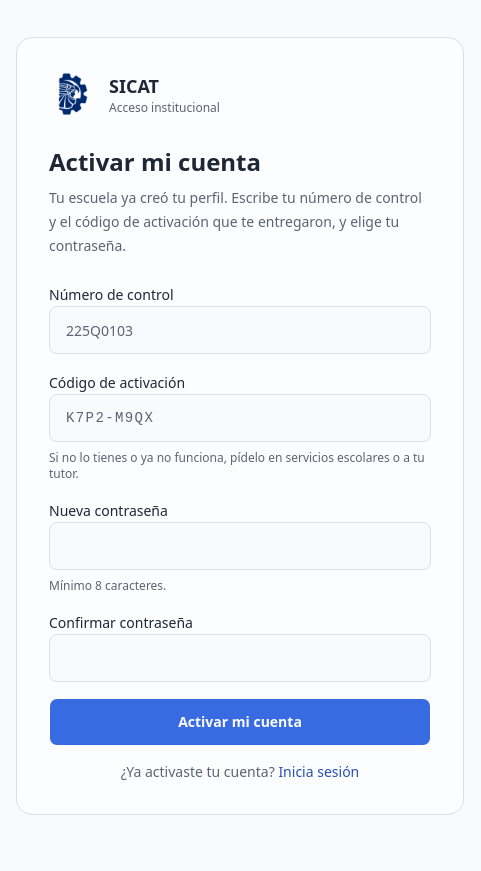
si las contraseñas no coinciden no envía nada
Type "225q0103" into the field labelled "Número de control". click: x=240, y=330
box: [49,306,431,354]
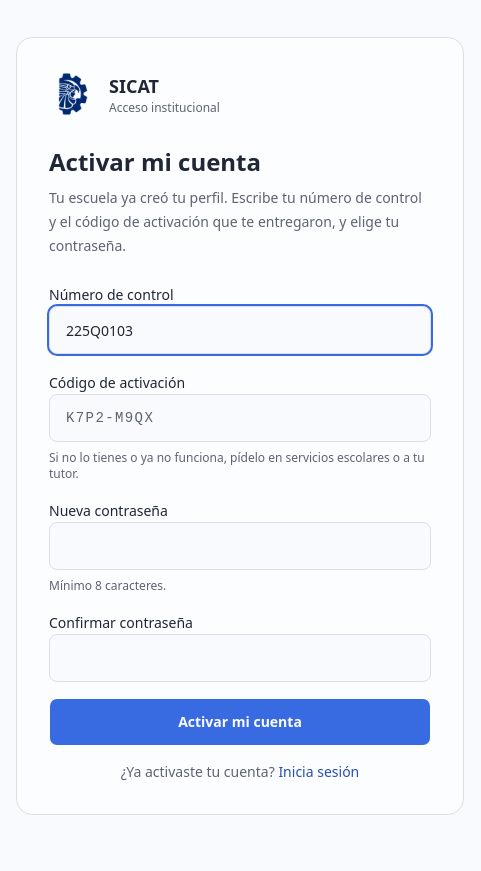
Type "k7p2-m9qx" into the field labelled "Código de activación". click: x=240, y=418
box: [49,394,431,442]
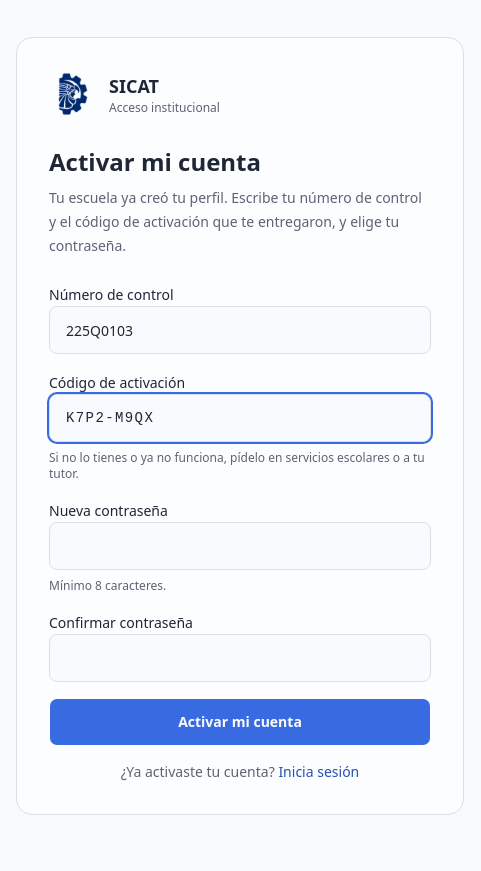
Type "clave-nueva" into the password field labelled "Nueva contraseña". click: x=240, y=546
box: [49,522,431,570]
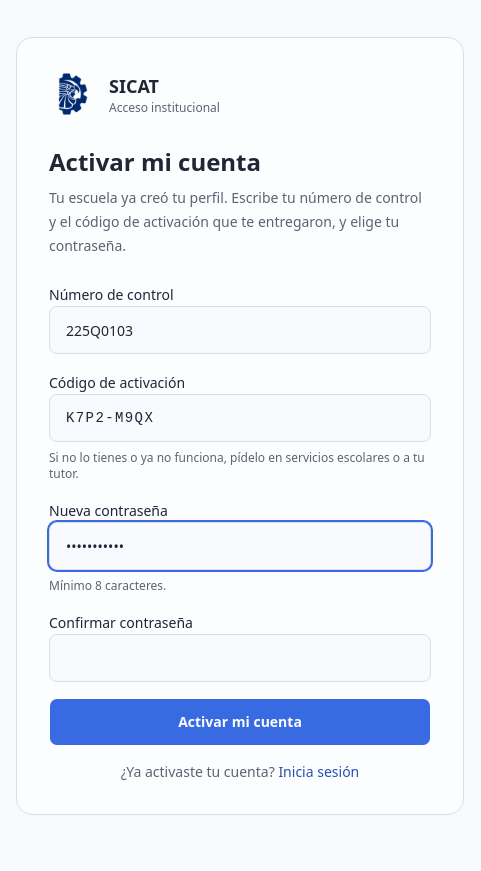
Type "otra-clave" into the password field labelled "Confirmar contraseña". click: x=240, y=658
box: [49,634,431,682]
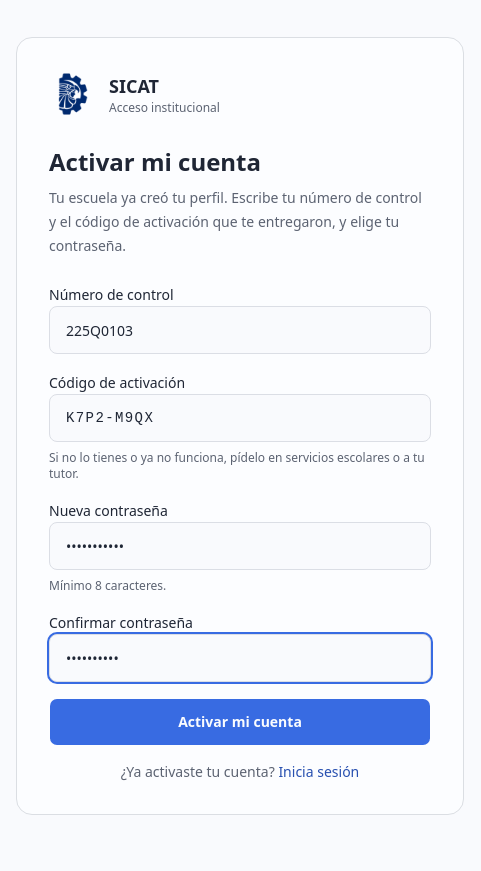
Click the button "Activar mi cuenta". click: x=240, y=722
box: [49,698,431,746]
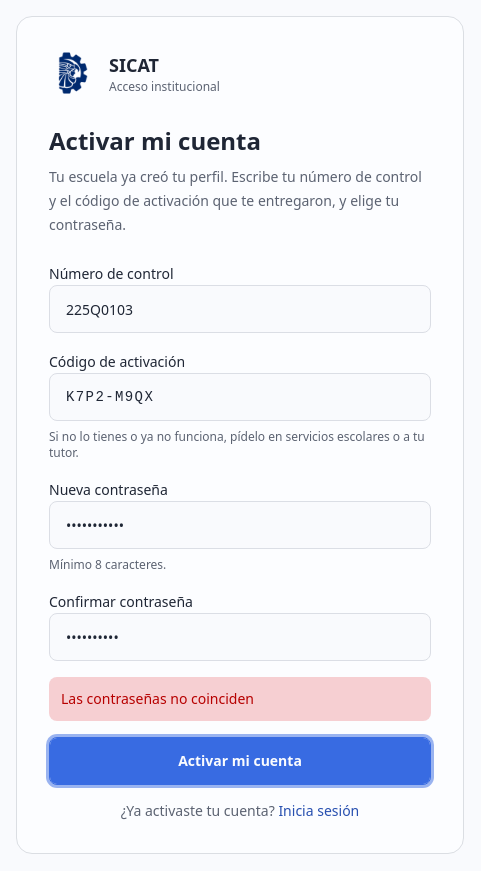
Now the message reads "Las contraseñas no coinciden", box [61,689,254,708]
